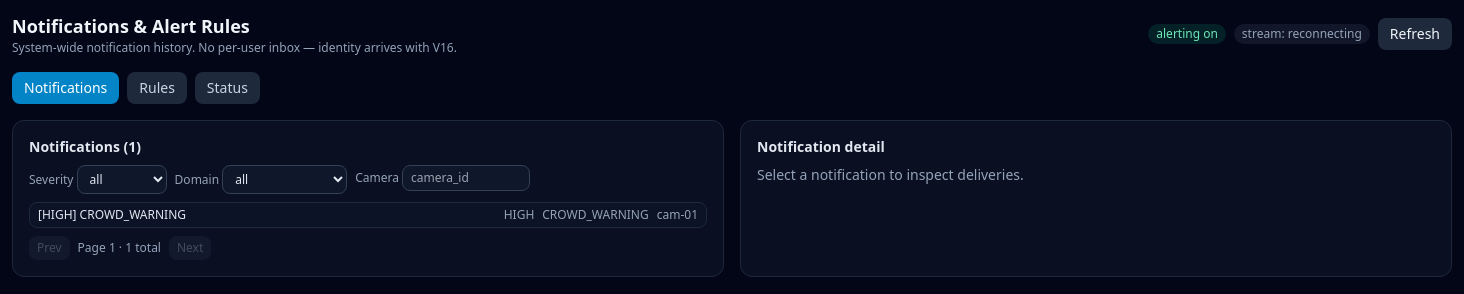
Test: NotificationsPage › shows delivery status and retries failed deliveries
The width and height of the screenshot is (1464, 294).
Click the text "[HIGH] CROWD_WARNING".
click(112, 215)  # box [38,207,186,223]
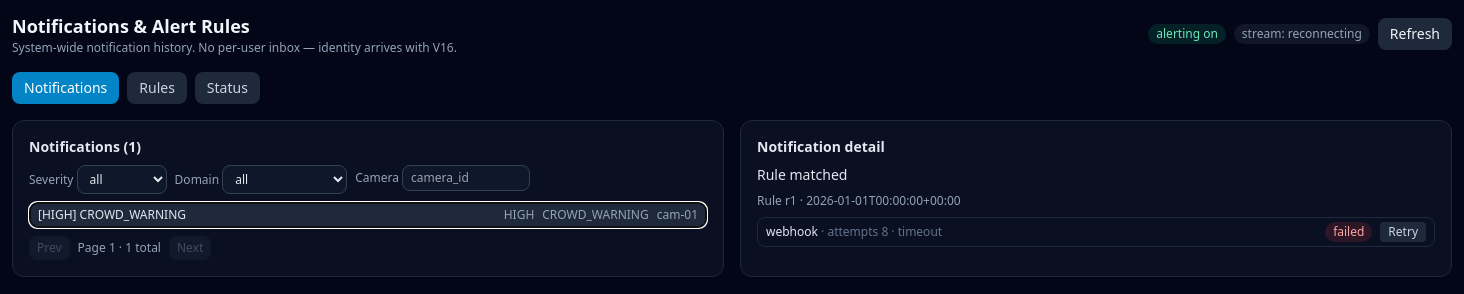
expect the text "failed" is shown: met, box [1325,222,1372,242]
Click the button with aria-label "Retry webhook delivery".
click(1403, 232)  # box [1380,222,1426,242]
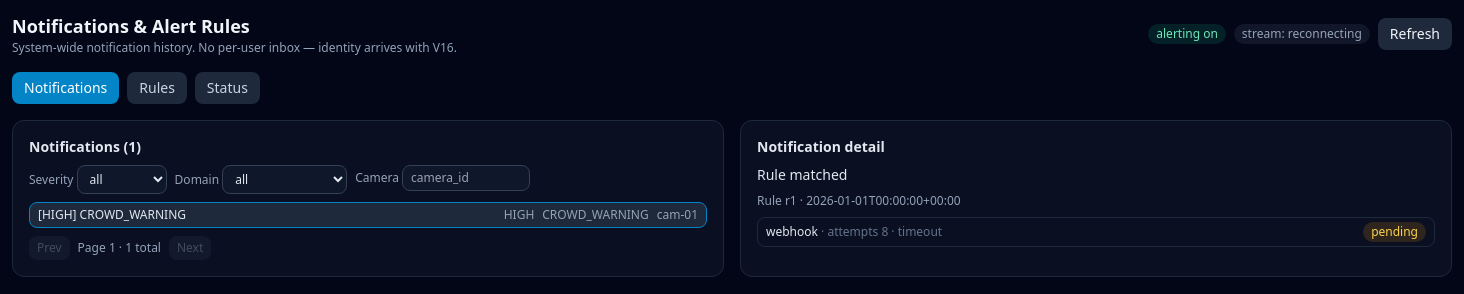
expect the text "failed" is gone: met
